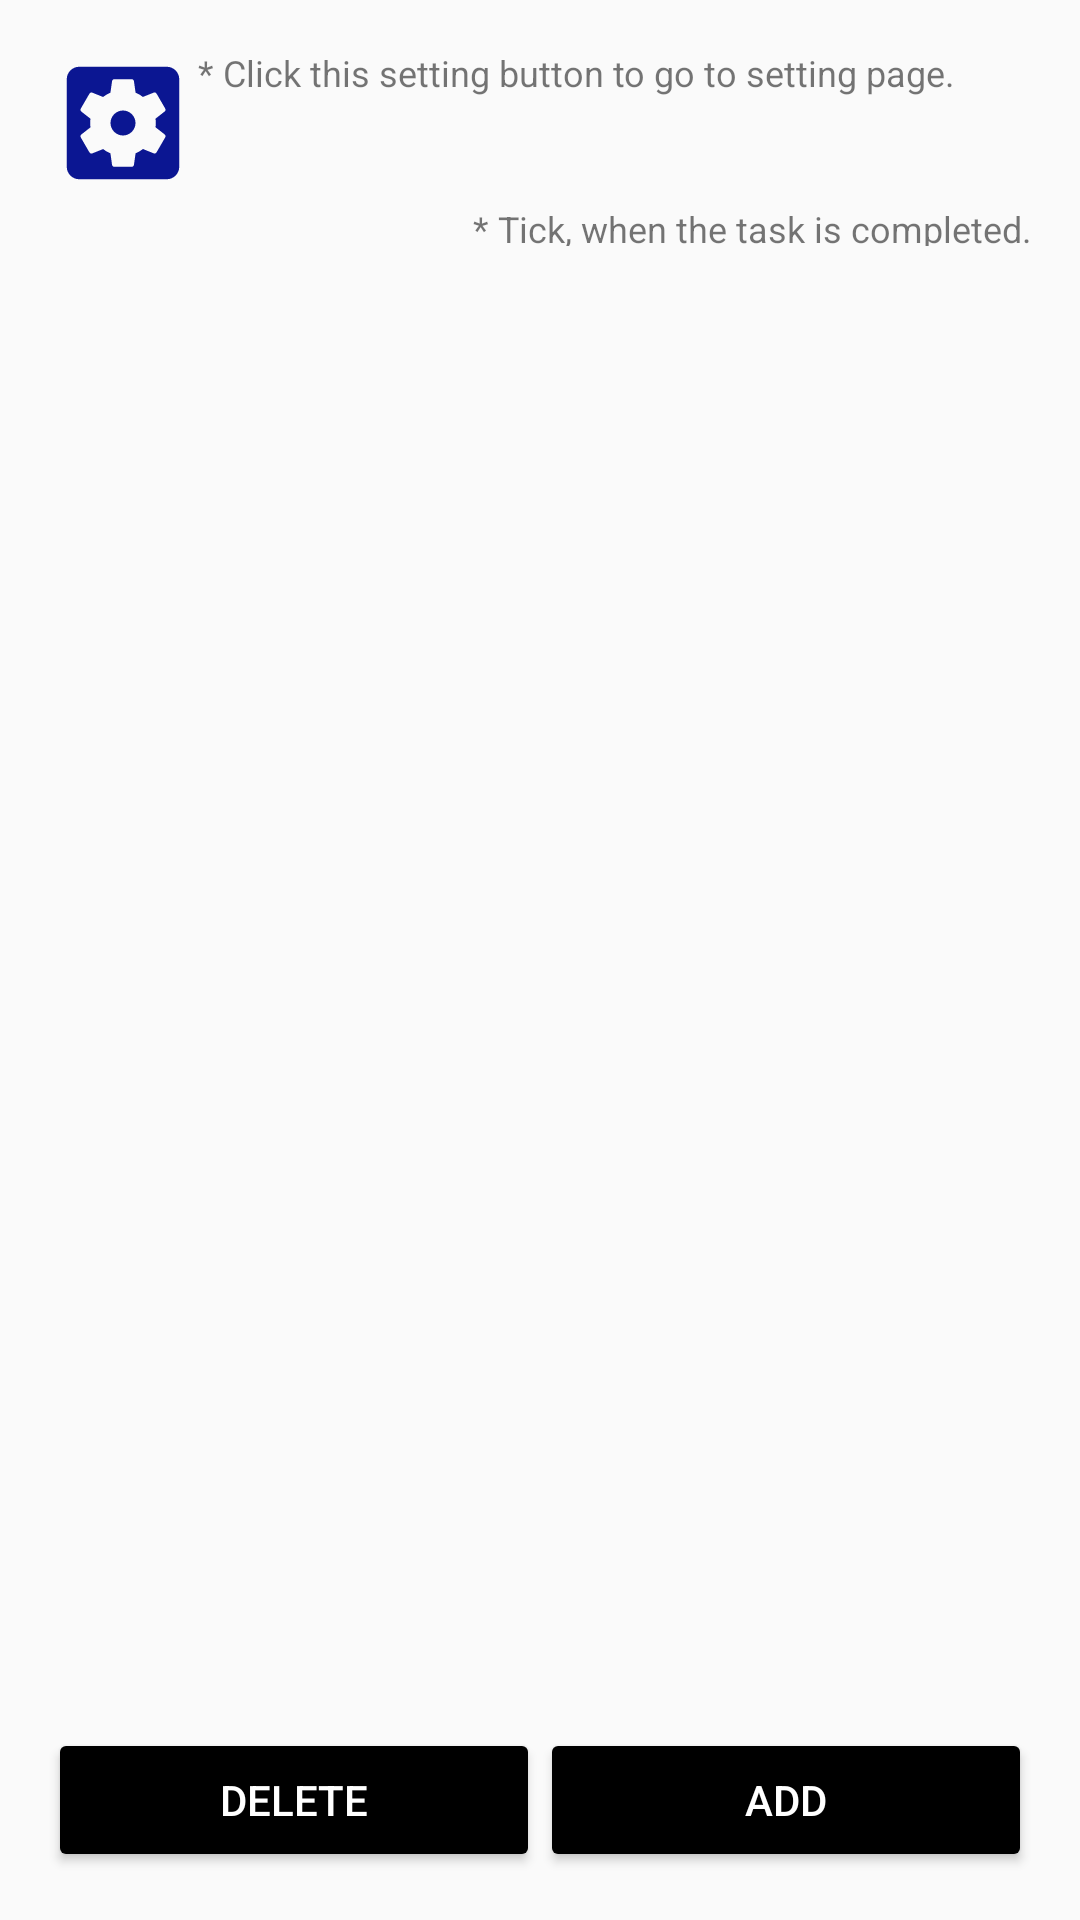

Named icons in this screenshot (1080 x 1920) and their centers, (x,y):
settings applications: (123,123)
